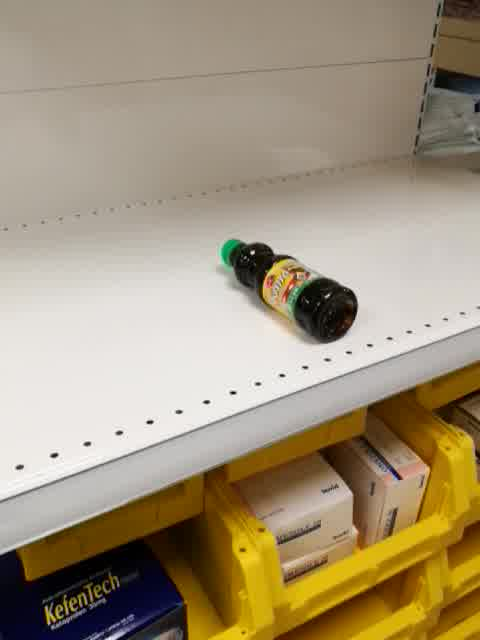cookingoil: (219, 235, 362, 346)
